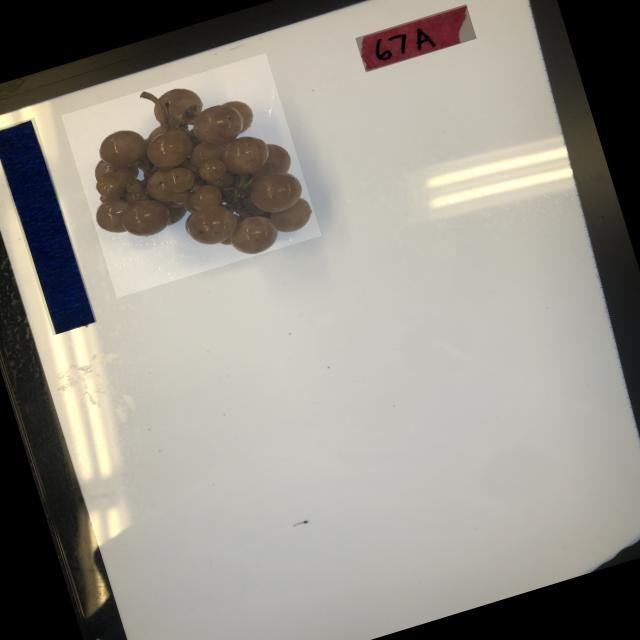grape_cluster: (61, 52, 321, 298)
index: (355, 4, 476, 72)
measure_label: (0, 117, 97, 335)
